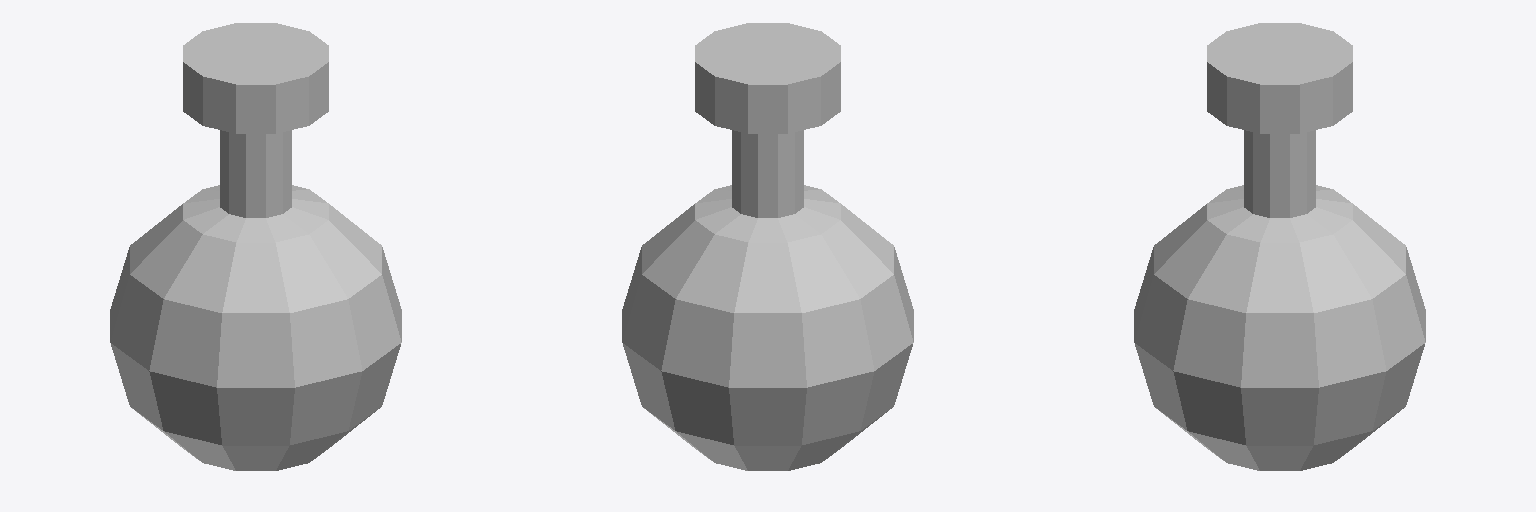
Rendered from Potion Bottle #1.obj.
3 views of the same model, side by side, from view 1: azimuth 30°, elevation 25°; view 2: azimuth 150°, elevation 25°; view 3: azimuth 270°, elevation 25° (orthographic).
Visible parts, largest first — view 1: Body, Mouth, Neck; view 2: Body, Mouth, Neck; view 3: Body, Mouth, Neck.
Boxes of the visible parts, x1,y1,x2,y2 form: Body: [110, 185, 401, 470]; Mouth: [183, 23, 328, 133]; Neck: [220, 130, 291, 217]; Body: [622, 185, 913, 470]; Mouth: [695, 23, 840, 133]; Neck: [732, 130, 803, 217]; Body: [1134, 185, 1425, 470]; Mouth: [1207, 23, 1352, 133]; Neck: [1244, 130, 1315, 217].
Bounding box in the file's own units: 1 × 1.53 × 1.